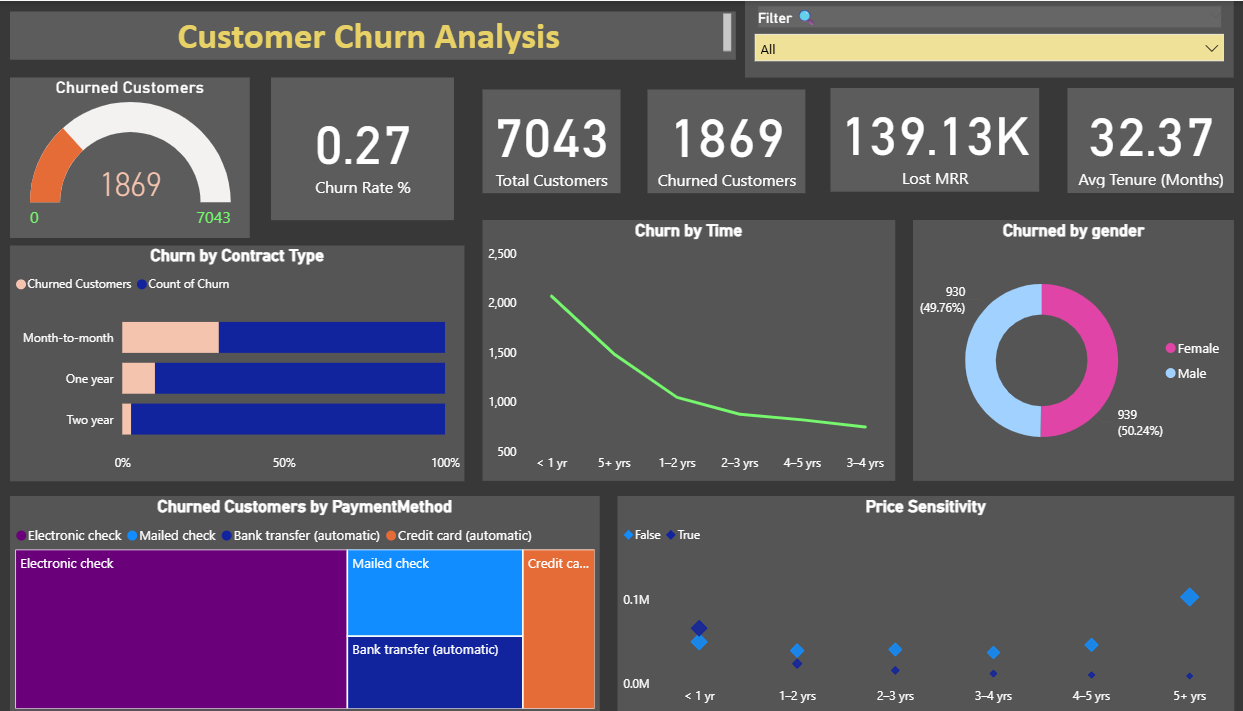

The page's visual inventory and layout, read from the dashboard file:
{"tool":"powerbi","page":{"name":"Page 1","canvas":[1280,720],"ordinal":0},"visuals":[{"type":"slicer","fields":{"Values":["Telco.Tenure Group","Telco.PaymentMethod","Telco.InternetService","Telco.Contract","Telco.gender"]},"box":[769.2,0,493.6,77.2],"z":0},{"type":"card","title":"Churn Rate","fields":{"Values":["Telco.Churn Rate %"]},"box":[290.7,77.2,184.7,143.8],"z":1000},{"type":"card","fields":{"Values":["Telco.Total Customers"]},"box":[504.2,89.3,139.3,104.5],"z":2000},{"type":"card","fields":{"Values":["Telco.Churned Customers"]},"box":[670.2,89.2,159.6,105],"z":3000},{"type":"card","fields":{"Values":["Telco.Lost MRR"]},"box":[855.5,87.8,210.5,104.5],"z":4000},{"type":"card","fields":{"Values":["Telco.Avg Tenure (Months)"]},"box":[1094.8,87.8,168.1,106],"z":5000},{"type":"hundredPercentStackedBarChart","title":"Churn by Contract Type","fields":{"Category":["Telco.Contract"],"Y":["Telco.Churned Customers","CountNonNull(Telco.Churn)"]},"box":[27.3,246.8,458.8,237.7],"z":6000},{"type":"donutChart","title":"Churned by gender","fields":{"Category":["Telco.gender"],"Y":["Telco.Churned Customers"]},"box":[938.8,221.1,324,263.5],"z":7000},{"type":"treemap","fields":{"Values":["Telco.Churned Customers"],"Group":["Telco.PaymentMethod"]},"box":[27.3,499.7,595.1,219.6],"z":8000},{"type":"scatterChart","title":"Price Sensitivity","fields":{"X":["Telco.Tenure Group"],"Y":["Sum(Telco.MonthlyCharges)"],"Series":["Telco.Churn"],"Size":["Telco.Total Customers"]},"box":[640.5,499.7,622.3,219.6],"z":9000},{"type":"lineChart","title":"Churn by Time","fields":{"Category":["Telco.Tenure Group"],"Y":["CountNonNull(Telco.Services Count)"]},"box":[504.2,221.1,416.4,263.5],"z":10000},{"type":"gauge","title":"Churned Customers ","fields":{"Y":["Telco.Churned Customers"],"MaxValue":["CountNonNull(Telco.customerID)"]},"box":[27.3,77.2,242.3,162],"z":11000},{"type":"textbox","box":[27.3,10.6,732.9,48.5],"z":12000}]}

Visuals, with their boxes in screenshot pixels (x1, y1, x2, y2), scaled from the page's 1280x720 canvas onto the 1243x711 screenshot:
slicer - Telco.Tenure Group x Telco.PaymentMethod: x1=747, y1=0, x2=1226, y2=76
"Churn Rate" card: x1=282, y1=76, x2=462, y2=218
card - Telco.Total Customers: x1=490, y1=88, x2=625, y2=191
card - Telco.Churned Customers: x1=651, y1=88, x2=806, y2=192
card - Telco.Lost MRR: x1=831, y1=87, x2=1035, y2=190
card - Telco.Avg Tenure (Months): x1=1063, y1=87, x2=1226, y2=191
"Churn by Contract Type" hundredPercentStackedBarChart: x1=27, y1=244, x2=472, y2=478
"Churned by gender" donutChart: x1=912, y1=218, x2=1226, y2=479
treemap - Telco.Churned Customers x Telco.PaymentMethod: x1=27, y1=493, x2=604, y2=710
"Price Sensitivity" scatterChart: x1=622, y1=493, x2=1226, y2=710
"Churn by Time" lineChart: x1=490, y1=218, x2=894, y2=479
"Churned Customers " gauge: x1=27, y1=76, x2=262, y2=236
textbox: x1=27, y1=10, x2=738, y2=58
